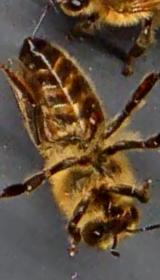varroa_mite: (78, 100, 104, 131)
